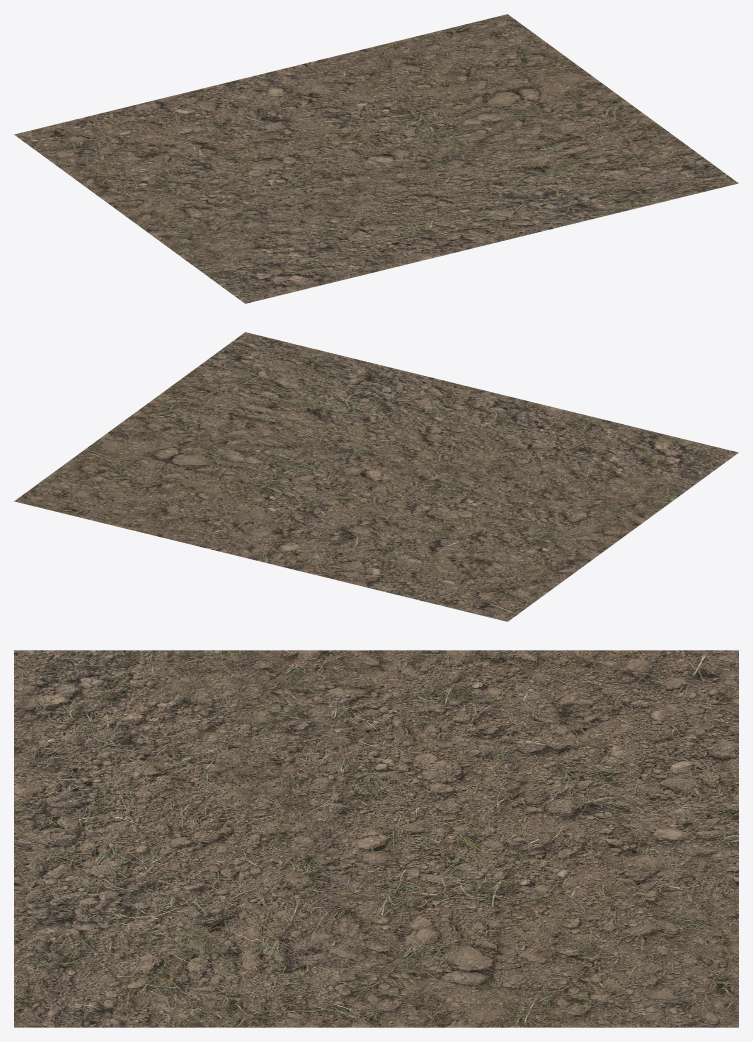
The picture shows the model from 3 angles, top to bottom: view 1: azimuth 30°, elevation 25°; view 2: azimuth 150°, elevation 25°; view 3: azimuth 270°, elevation 25°; orthographic projection. The views are drawn at different scales.
Parts seen in each view (by area): view 1: bq_pps_Forest-debris_Coniferous_B_spring-summer-autumn.009; view 2: bq_pps_Forest-debris_Coniferous_B_spring-summer-autumn.009; view 3: bq_pps_Forest-debris_Coniferous_B_spring-summer-autumn.009.
Part boxes in pixels (x1=…): bq_pps_Forest-debris_Coniferous_B_spring-summer-autumn.009: x1=14, y1=14, x2=738, y2=303; bq_pps_Forest-debris_Coniferous_B_spring-summer-autumn.009: x1=14, y1=332, x2=738, y2=621; bq_pps_Forest-debris_Coniferous_B_spring-summer-autumn.009: x1=14, y1=650, x2=738, y2=1027.
Size of the model in its own units: 97.92 by 2.99e-08 by 79.46.
Materials: 1 (1 with a texture image).
